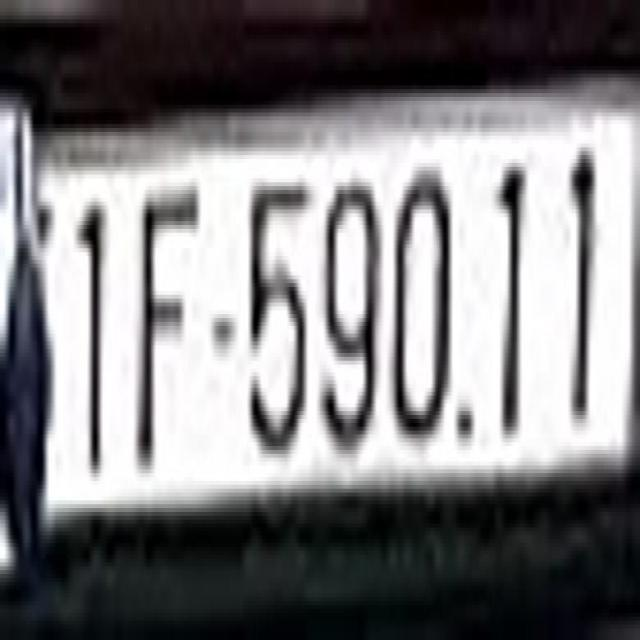0: (392, 162, 456, 462)
1: (566, 144, 598, 430), (75, 182, 106, 466), (497, 158, 528, 438)
5: (247, 175, 308, 462)
9: (323, 178, 375, 458)
F: (142, 167, 202, 481)
